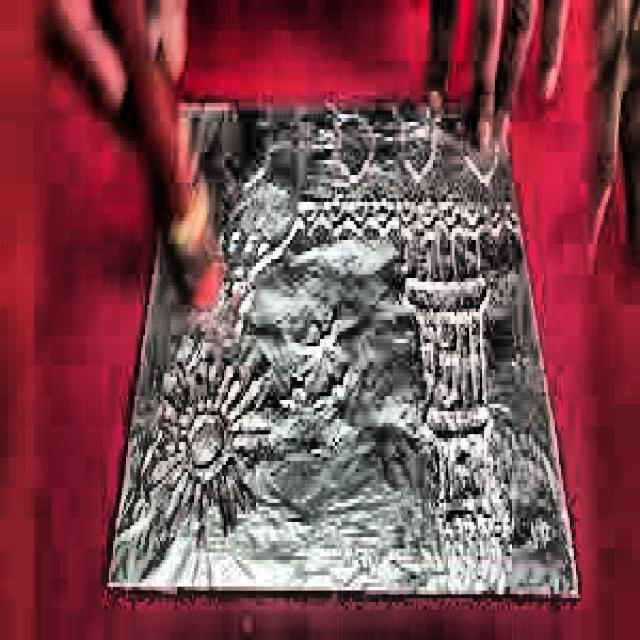Foil: (95, 59, 587, 616)
